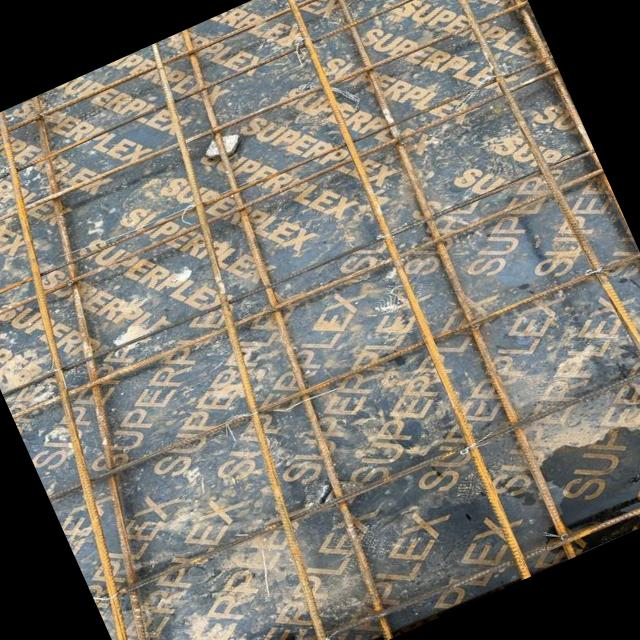ribbed bar: (60, 41, 419, 640), (120, 27, 449, 640), (260, 0, 549, 580), (2, 132, 596, 414), (48, 236, 640, 518), (12, 154, 604, 434), (0, 94, 300, 640), (305, 0, 590, 560), (0, 45, 553, 320), (94, 341, 640, 619), (0, 61, 559, 332), (0, 0, 529, 265), (0, 109, 248, 640), (416, 0, 640, 510), (0, 0, 509, 222), (141, 446, 640, 640), (0, 0, 494, 187), (461, 0, 591, 153)
